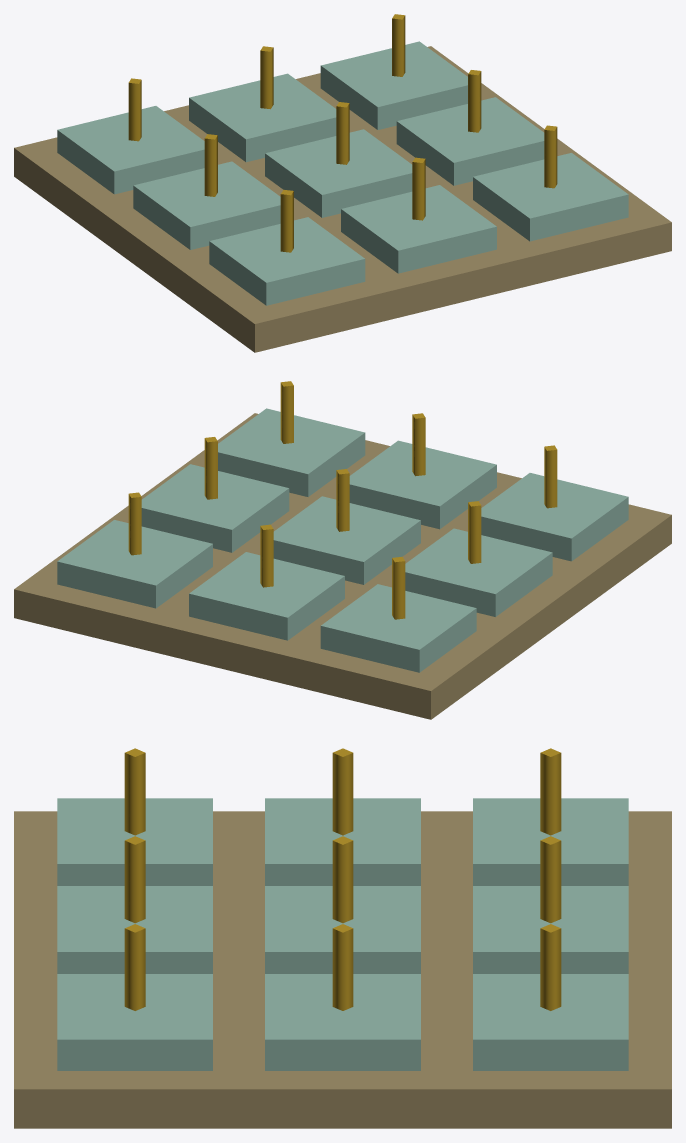
The model's file is node_ling_tian.glb.
3 renders of one model, top to bottom at view 1: azimuth 30°, elevation 25°; view 2: azimuth 150°, elevation 25°; view 3: azimuth 270°, elevation 25°, orthographic. The views are drawn at different scales.
Visible parts, largest first — view 1: _MeshInstance3D_285, _MeshInstance3D_300, _MeshInstance3D_302, _MeshInstance3D_298, _MeshInstance3D_286, _MeshInstance3D_292, _MeshInstance3D_294, _MeshInstance3D_296, _MeshInstance3D_288, _MeshInstance3D_290, _MeshInstance3D_301, _MeshInstance3D_287 (+7 smaller); view 2: _MeshInstance3D_285, _MeshInstance3D_288, _MeshInstance3D_290, _MeshInstance3D_286, _MeshInstance3D_298, _MeshInstance3D_292, _MeshInstance3D_294, _MeshInstance3D_296, _MeshInstance3D_300, _MeshInstance3D_302, _MeshInstance3D_289, _MeshInstance3D_287 (+7 smaller); view 3: _MeshInstance3D_285, _MeshInstance3D_290, _MeshInstance3D_302, _MeshInstance3D_296, _MeshInstance3D_294, _MeshInstance3D_286, _MeshInstance3D_288, _MeshInstance3D_298, _MeshInstance3D_300, _MeshInstance3D_292, _MeshInstance3D_295, _MeshInstance3D_287 (+7 smaller).
Boxes of the visible parts, x1,y1,x2,y2 form: _MeshInstance3D_285: (14,46,671,352); _MeshInstance3D_300: (341,185,496,273); _MeshInstance3D_302: (473,153,628,241); _MeshInstance3D_298: (209,217,365,305); _MeshInstance3D_286: (57,106,204,194); _MeshInstance3D_292: (133,161,280,249); _MeshInstance3D_294: (265,129,412,217); _MeshInstance3D_296: (396,97,544,185); _MeshInstance3D_288: (189,73,336,162); _MeshInstance3D_290: (320,41,467,129); _MeshInstance3D_301: (412,157,425,220); _MeshInstance3D_287: (128,78,141,141); _MeshInstance3D_285: (14,413,671,719); _MeshInstance3D_288: (189,552,344,640); _MeshInstance3D_290: (57,520,212,608); _MeshInstance3D_286: (320,584,476,672); _MeshInstance3D_298: (481,473,628,561); _MeshInstance3D_292: (405,528,552,616); _MeshInstance3D_294: (273,496,420,584); _MeshInstance3D_296: (141,464,289,552); _MeshInstance3D_300: (349,440,496,529); _MeshInstance3D_302: (218,408,365,496); _MeshInstance3D_289: (260,524,273,587); _MeshInstance3D_287: (392,556,405,619); _MeshInstance3D_285: (14,811,671,1128); _MeshInstance3D_290: (473,974,628,1070); _MeshInstance3D_302: (57,974,212,1070); _MeshInstance3D_296: (265,974,420,1070); _MeshInstance3D_294: (265,886,420,973); _MeshInstance3D_286: (473,798,628,885); _MeshInstance3D_288: (473,886,628,973); _MeshInstance3D_298: (57,798,212,885); _MeshInstance3D_300: (57,886,212,973); _MeshInstance3D_292: (265,798,420,885); _MeshInstance3D_295: (332,836,353,923); _MeshInstance3D_287: (540,748,561,835).
Size of the model in its own units: 0.76 by 0.19 by 0.76.
